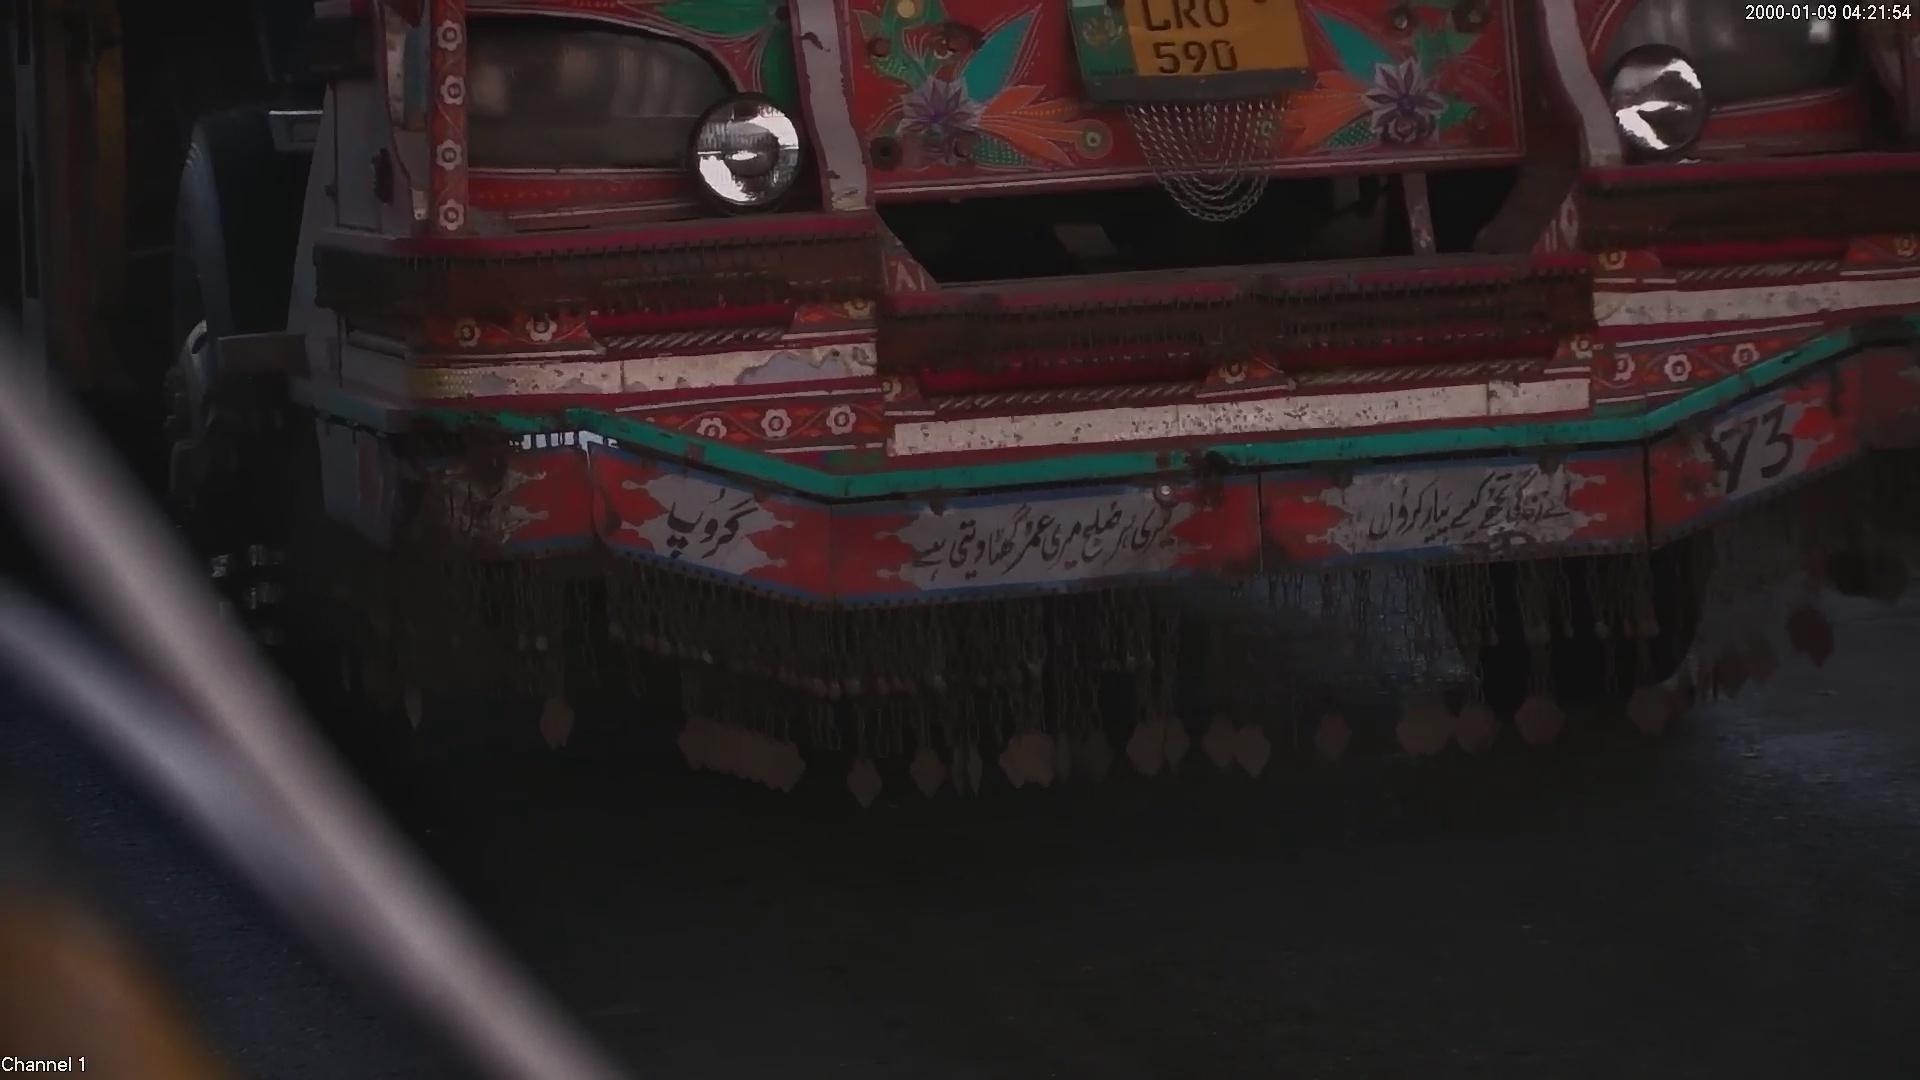Number_Plate: (1060, 3, 1341, 96)
Undefined: (445, 16, 837, 227), (1602, 14, 1893, 162), (871, 475, 1215, 581), (1310, 455, 1602, 559), (591, 446, 776, 573), (1117, 105, 1304, 223), (1687, 394, 1815, 492)
